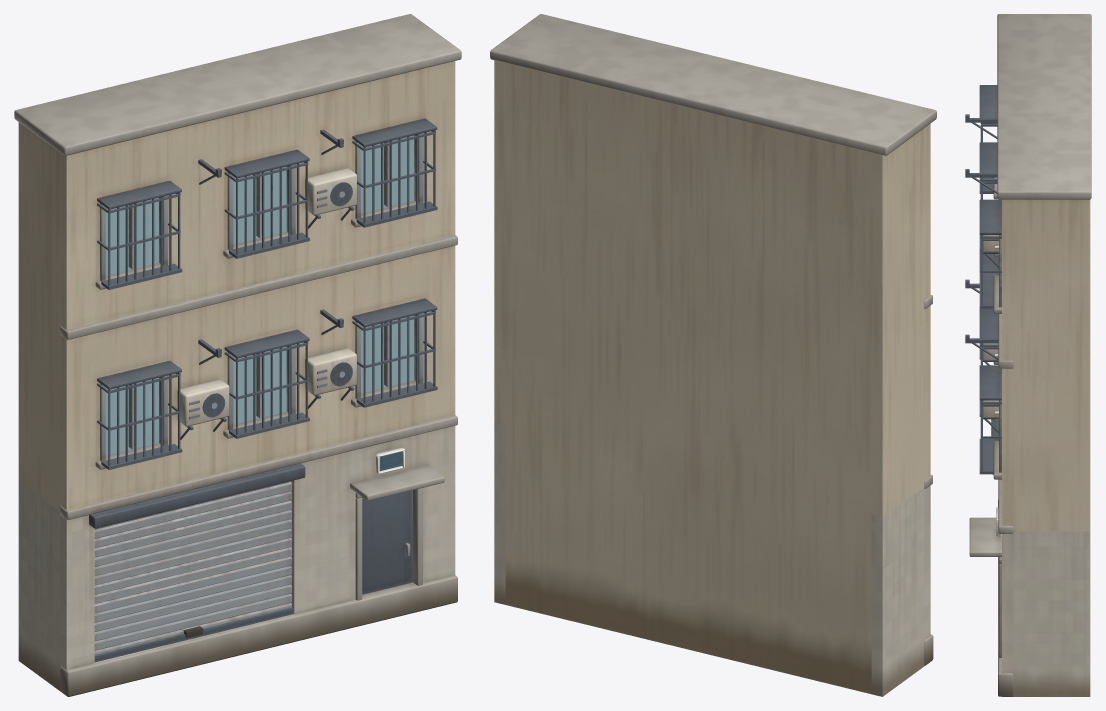
File: rented_room.glb
3 views of the same model, side by side, from view 1: azimuth 30°, elevation 25°; view 2: azimuth 150°, elevation 25°; view 3: azimuth 270°, elevation 25° (orthographic). The views are drawn at different scales.
Visible parts, largest first — view 1: rented_room; view 2: rented_room; view 3: rented_room.
Part boxes in pixels (<box>): rented_room: <box>14,14,461,696</box>; rented_room: <box>490,14,936,696</box>; rented_room: <box>965,14,1091,696</box>.
Bounding box in the file's own units: 7.16 × 9.5 × 2.14.
10 materials, 9 textured.
